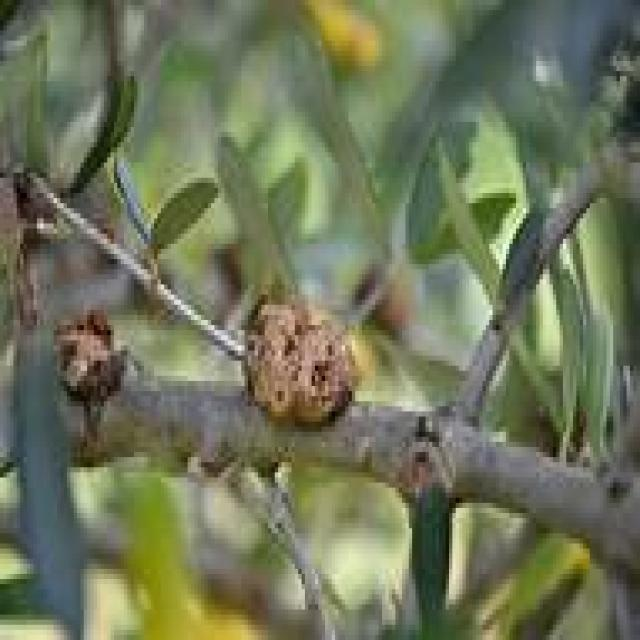Tuberculosis: (244, 294, 358, 422), (60, 310, 124, 413)
